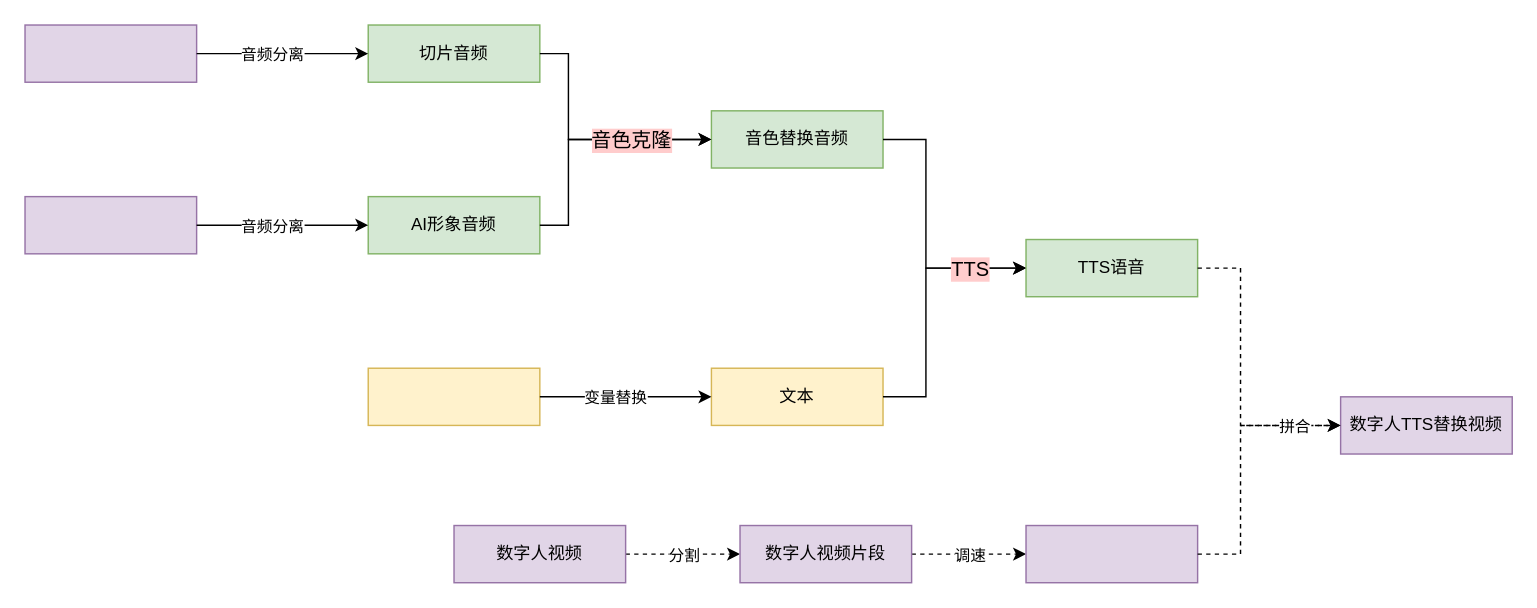
Image size: 1537x608. Some labels were removed from this diagram. Here are the shapes that lost their labels. From the top down, the centre of each, then its label:
At (110,53): "切片音视频".
At (110,224): "AI形象".
At (453,396): "带变量文本".
At (1111,553): "数字人视频对齐片段".
